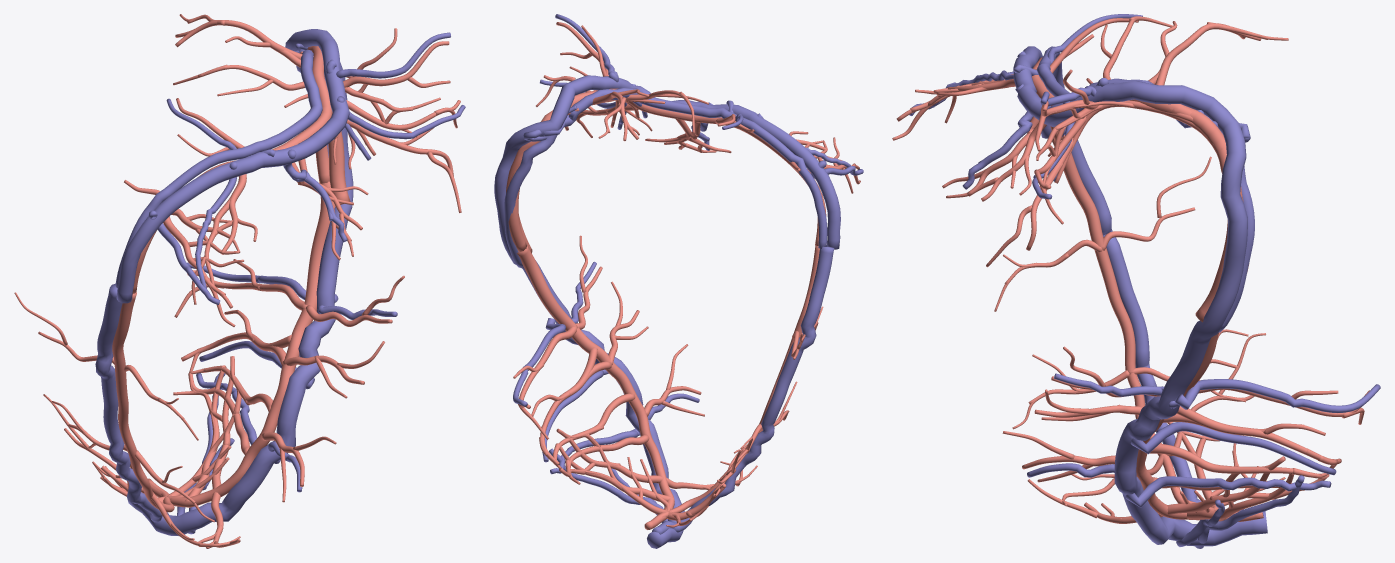
The model's file is vessels_59.glb.
The picture shows the model from 3 angles, left to right: view 1: azimuth 30°, elevation 25°; view 2: azimuth 150°, elevation 25°; view 3: azimuth 270°, elevation 25°; orthographic projection. The views are drawn at different scales.
Visible parts, largest first — view 1: Renderer Node; view 2: Renderer Node; view 3: Renderer Node.
Part boxes in pixels (left/top/right/bottom): Renderer Node: left=14, top=14, right=465, bottom=548; Renderer Node: left=494, top=14, right=863, bottom=548; Renderer Node: left=892, top=14, right=1380, bottom=548.
Size of the model in its own units: 94.87 by 122 by 95.54.
